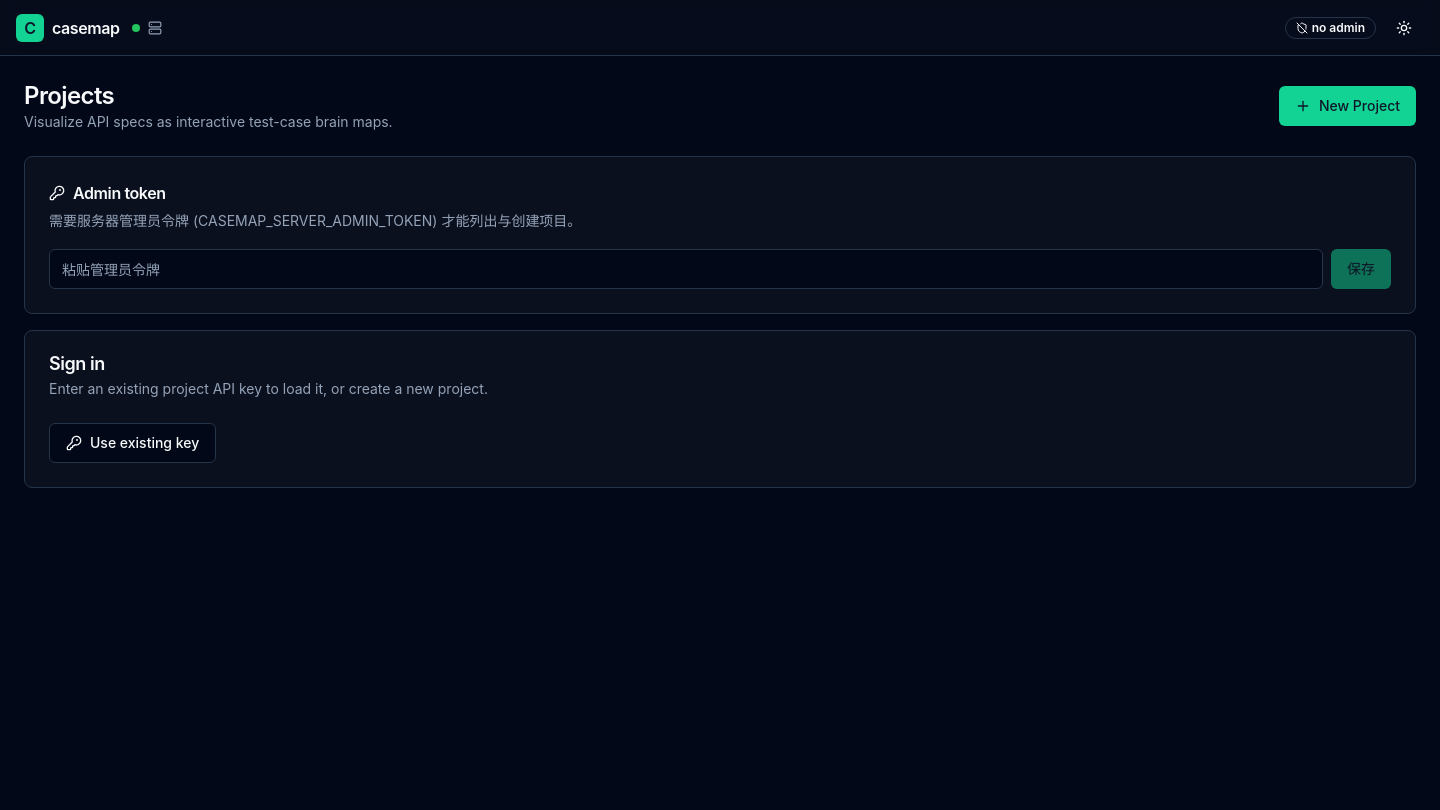
it: <HomePage /> admin token › shows error toast and stays on home when clicking New Project without admin token
This screenshot has width=1440, height=810.
What coordinates should you click on to do the following:
click the button with aria-label "Create new project"
I would click on:
 (1347, 106)
Its box is [1279, 86, 1416, 126].
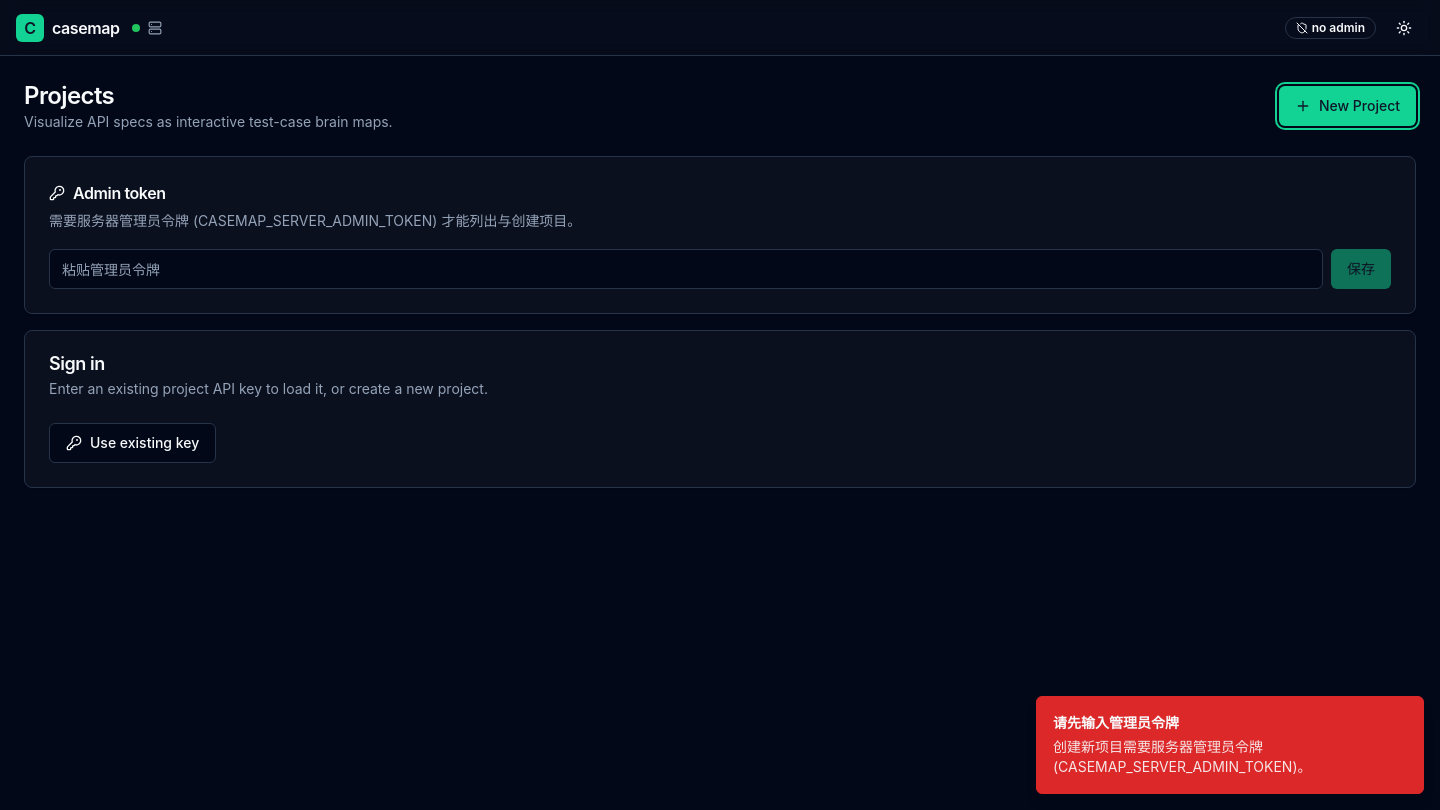
expect the text "请先输入管理员令牌" is shown: met, box [1053, 714, 1179, 731]
